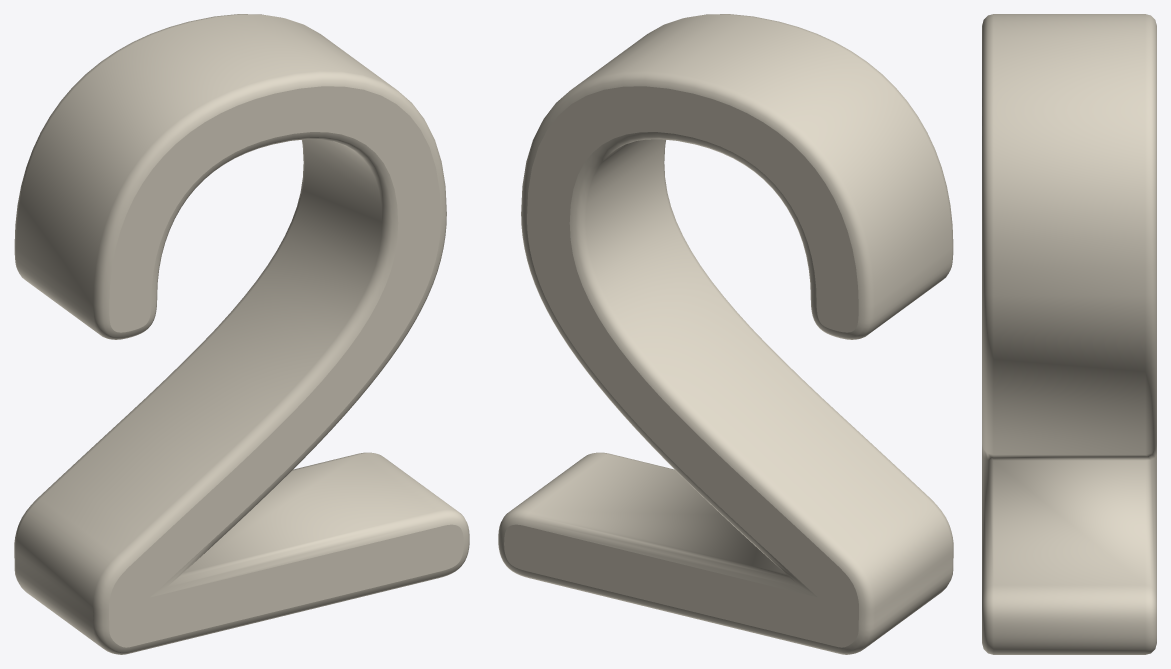
File: number_2.glb
The picture shows the model from 3 angles, left to right: view 1: azimuth 30°, elevation 25°; view 2: azimuth 150°, elevation 25°; view 3: azimuth 270°, elevation 25°; orthographic projection.
Parts seen in each view (by area): view 1: color_body; view 2: color_body; view 3: color_body.
Boxes of the visible parts, bbox=[...] form: color_body: bbox=[14, 14, 469, 654]; color_body: bbox=[498, 14, 953, 654]; color_body: bbox=[982, 14, 1156, 654].
Size of the model in its own units: 0.5908 by 0.8115 by 0.242.
